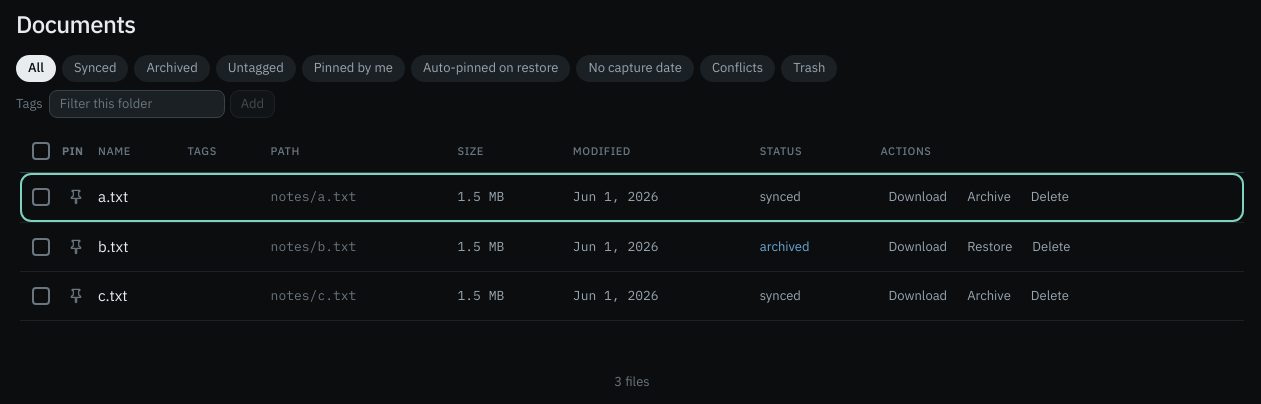
Test: FileBrowser › should repaint the row after a restore instead of leaving it reading archived
The width and height of the screenshot is (1261, 404).
Expected: the button "b.txt" is shown, [98,236,128,258]
What coordinates should you click on to do the following:
click the button "Restore"
I would click on:
 (990, 247)
Its box is [959,234,1020,260].
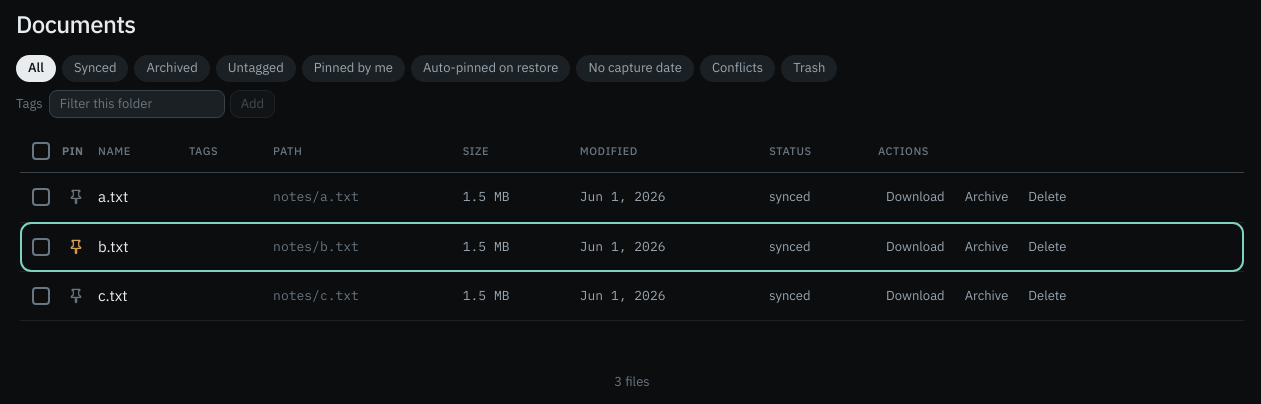
Now the text "synced" in the row of "notes/b.txt" is shown, box [769,238,810,255]
